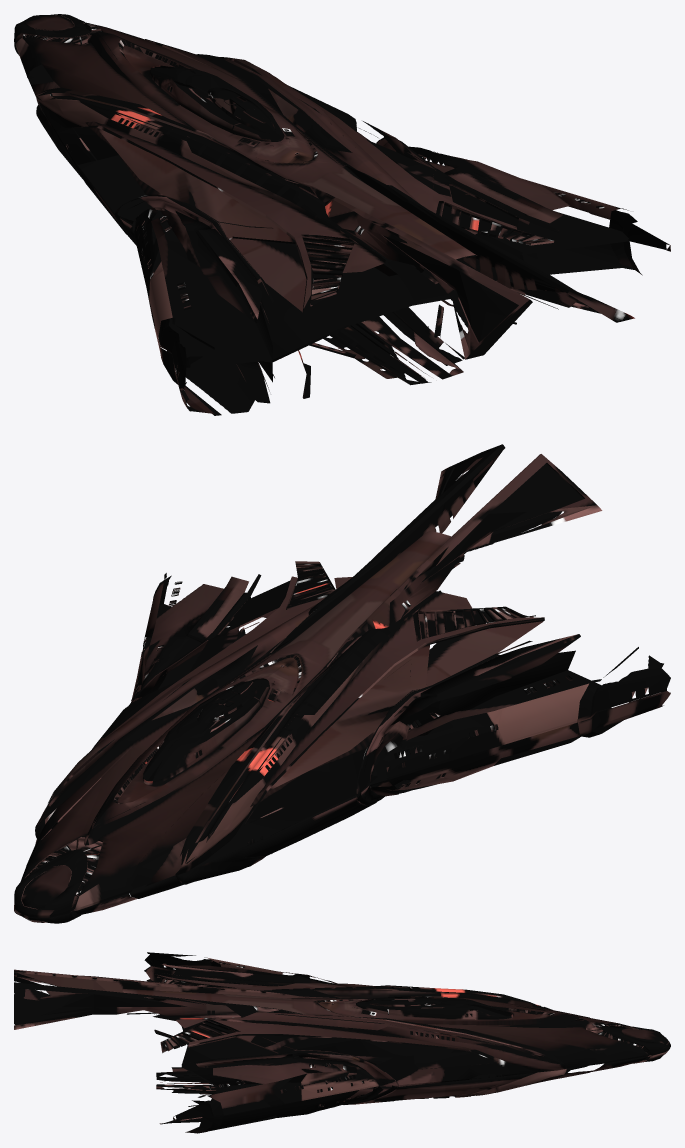
The model's file is spacestation12half.obj.
3 renders of one model, top to bottom at view 1: azimuth 30°, elevation 25°; view 2: azimuth 150°, elevation 25°; view 3: azimuth 270°, elevation 25°, orthographic. The views are drawn at different scales.
Visible parts, largest first — view 1: Circle.000; view 2: Circle.000; view 3: Circle.000.
Boxes of the visible parts, box(x1,y1,x2,y2) form: Circle.000: box(14, 14, 670, 415); Circle.000: box(14, 444, 670, 923); Circle.000: box(14, 952, 670, 1133).
Bounding box in the file's own units: 2.19 × 0.7115 × 3.89.
Materials: 1 (1 with a texture image).
